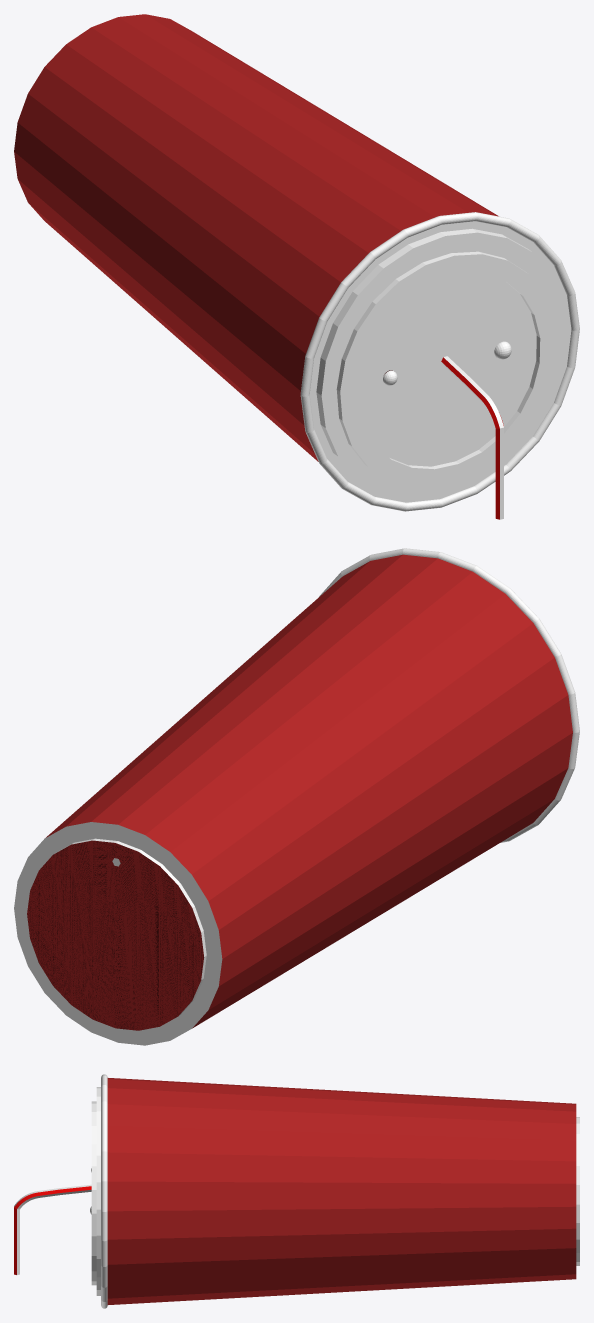
The picture shows the model from 3 angles, top to bottom: view 1: azimuth 30°, elevation 25°; view 2: azimuth 150°, elevation 25°; view 3: azimuth 270°, elevation 25°; orthographic projection. The views are drawn at different scales.
Visible parts, largest first — view 1: drinks gulp cup large; view 2: drinks gulp cup large; view 3: drinks gulp cup large.
Boxes of the visible parts, x1,y1,x2,y2 form: drinks gulp cup large: (14,14,579,519); drinks gulp cup large: (14,548,579,1045); drinks gulp cup large: (14,1074,579,1308).
Size of the model in its own units: 5.71 by 5.71 by 13.73.
